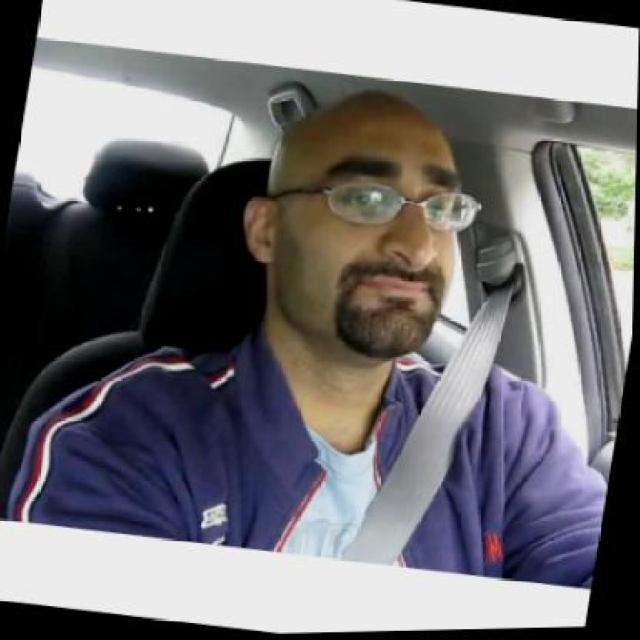attentif: (226, 72, 500, 372)
